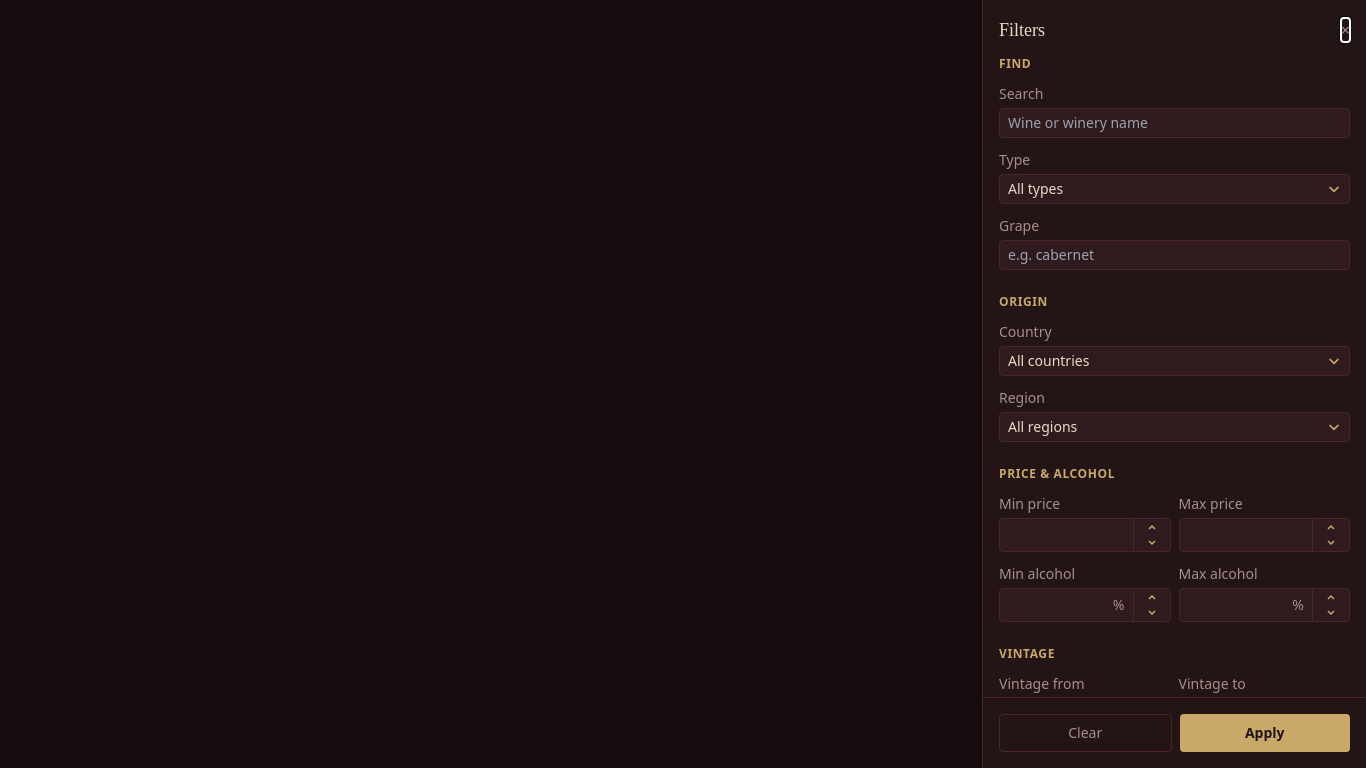
Test: FilterDrawer › closes an open dropdown when its label is clicked instead of reopening it
Click the dropdown labelled "Country" at (1174, 361), box [999,346,1350,376]
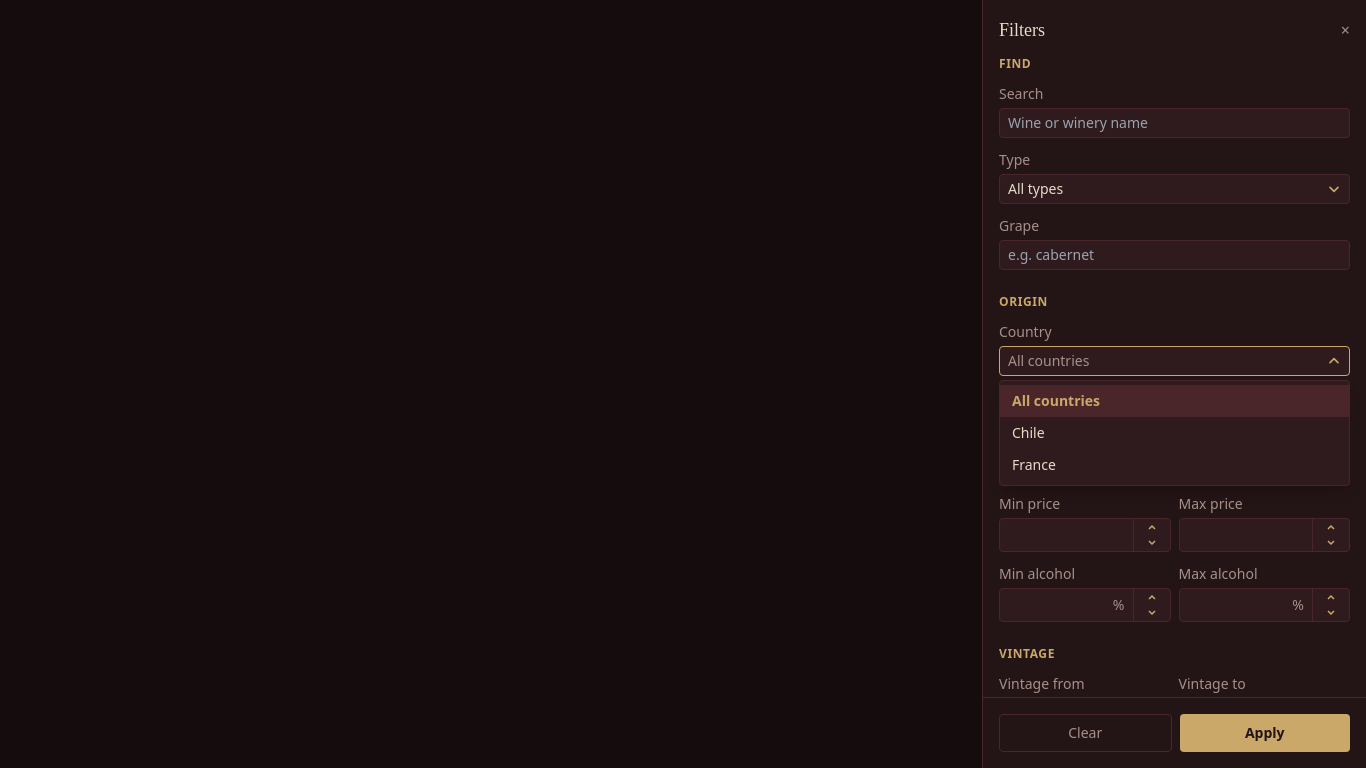
Now the list is shown, box [999,380,1350,486]
Click the text "Country" at (1025, 332), box [999,322,1052,341]
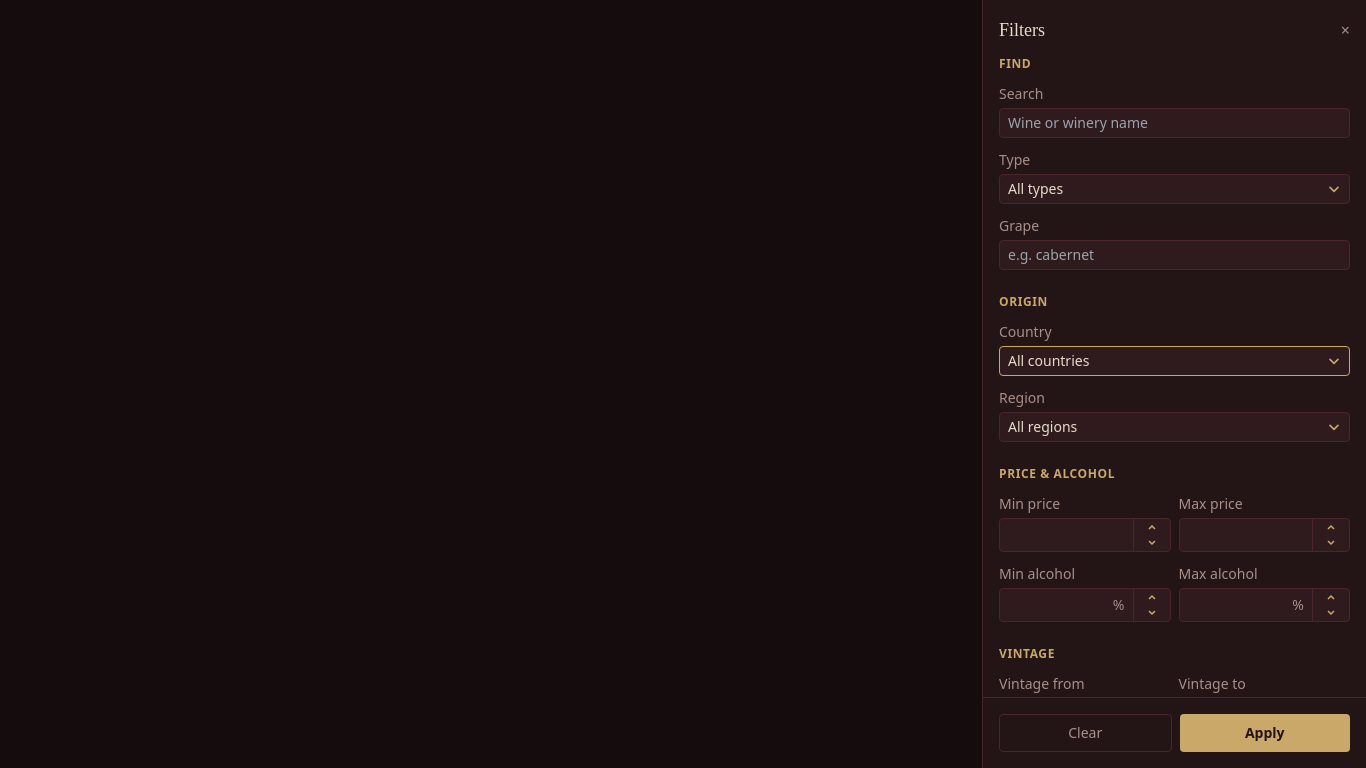
Now the list is gone
